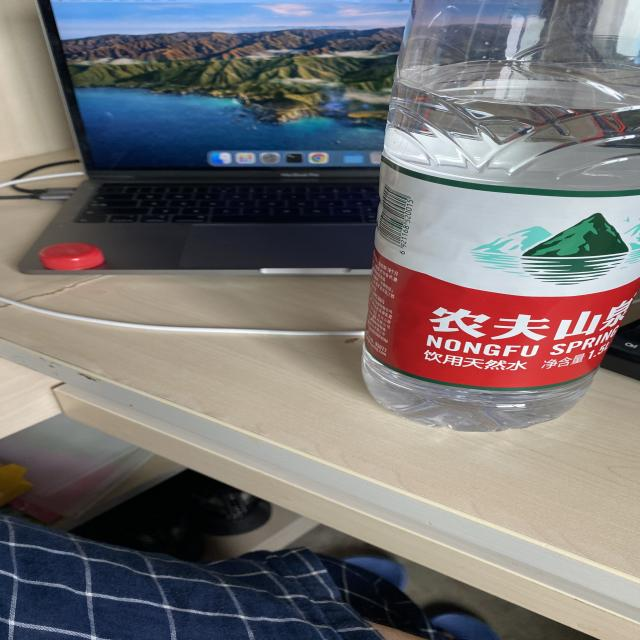Anorganik: (350, 0, 639, 427)
